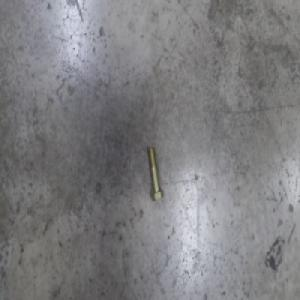Bolt: (146, 144, 163, 201)
